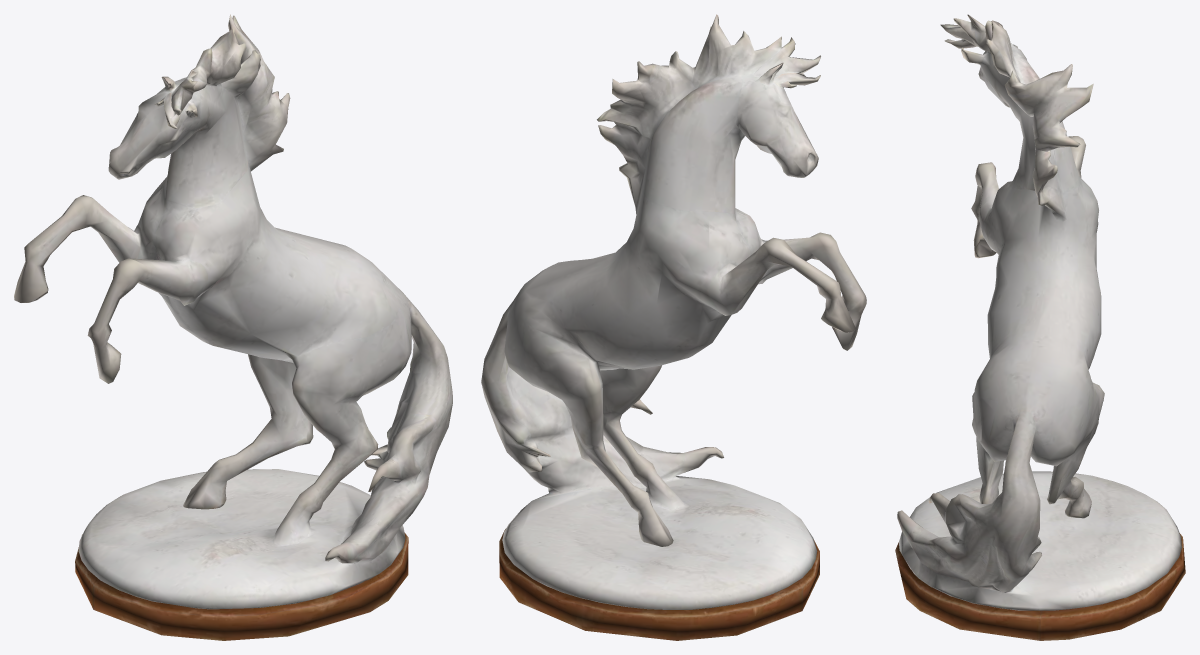
The model's file is horse_statue_01.glb.
3 views of the same model, side by side, from view 1: azimuth 30°, elevation 25°; view 2: azimuth 150°, elevation 25°; view 3: azimuth 270°, elevation 25° (orthographic). The views are drawn at different scales.
Visible parts, largest first — view 1: horse_statue_01; view 2: horse_statue_01; view 3: horse_statue_01.
Boxes of the visible parts, x1,y1,x2,y2 form: horse_statue_01: [14, 14, 452, 640]; horse_statue_01: [481, 14, 866, 640]; horse_statue_01: [895, 14, 1185, 640].
Size of the model in its own units: 0.1635 by 0.22 by 0.1078.
Materials: 1 (1 with a texture image).
